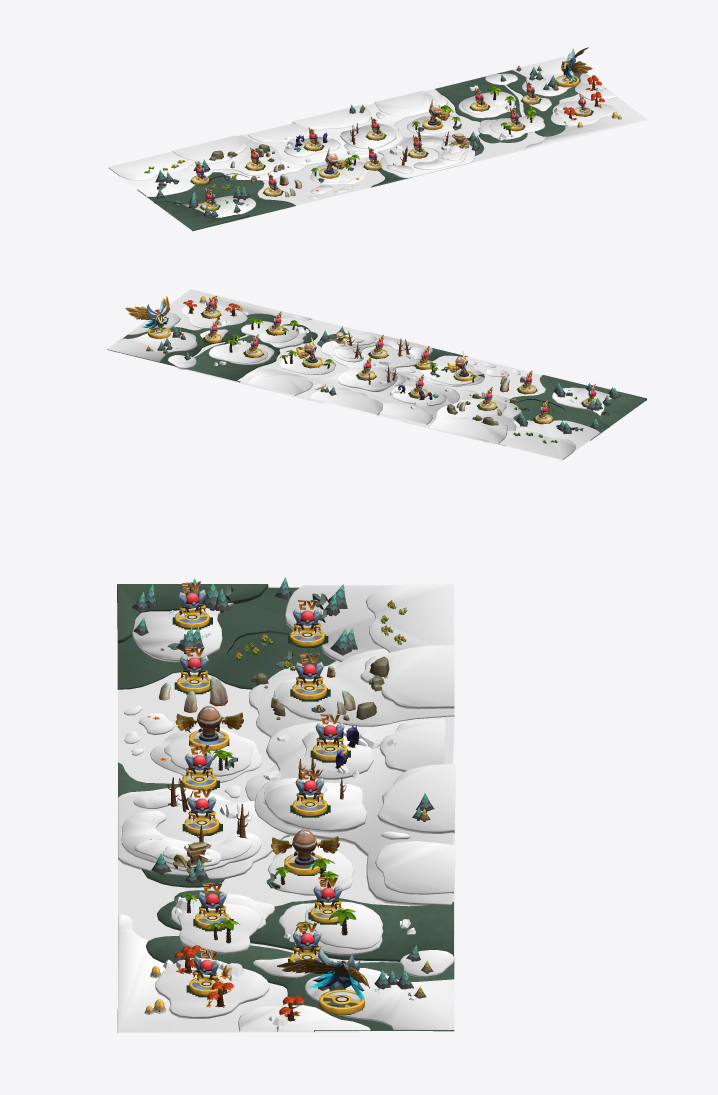
File: 14_10_Giai_Dau_League_Dam_Lay.glb
3 views of the same model, one above another, from view 1: azimuth 30°, elevation 25°; view 2: azimuth 150°, elevation 25°; view 3: azimuth 270°, elevation 25° (orthographic). The views are drawn at different scales.
Parts seen in each view (by area): view 1: 14_10_Giai_Dau_League_Dam_Lay; view 2: 14_10_Giai_Dau_League_Dam_Lay; view 3: 14_10_Giai_Dau_League_Dam_Lay.
Part boxes in pixels (left/top/right/bottom): 14_10_Giai_Dau_League_Dam_Lay: left=108, top=47, right=647, bottom=231; 14_10_Giai_Dau_League_Dam_Lay: left=107, top=289, right=646, bottom=460; 14_10_Giai_Dau_League_Dam_Lay: left=117, top=577, right=456, bottom=1032.
Bounding box in the file's own units: 214 × 12.68 × 78.83.
33 materials, 27 textured.
